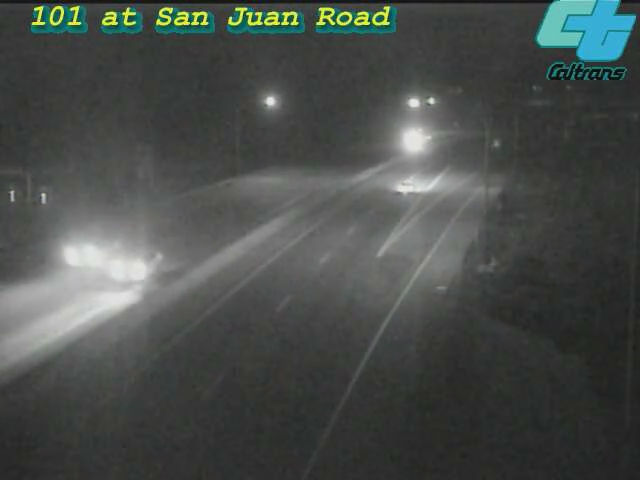vehicle: (38, 217, 118, 297), (88, 227, 168, 307), (366, 146, 446, 226), (389, 115, 439, 165)
